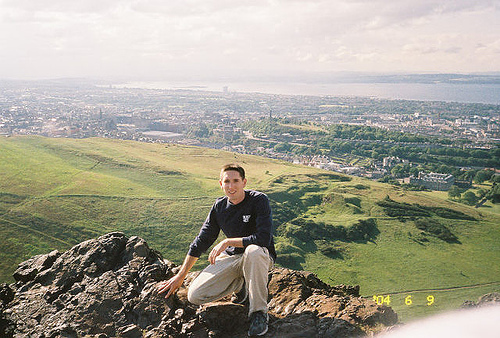without_mask: (217, 168, 248, 201)
